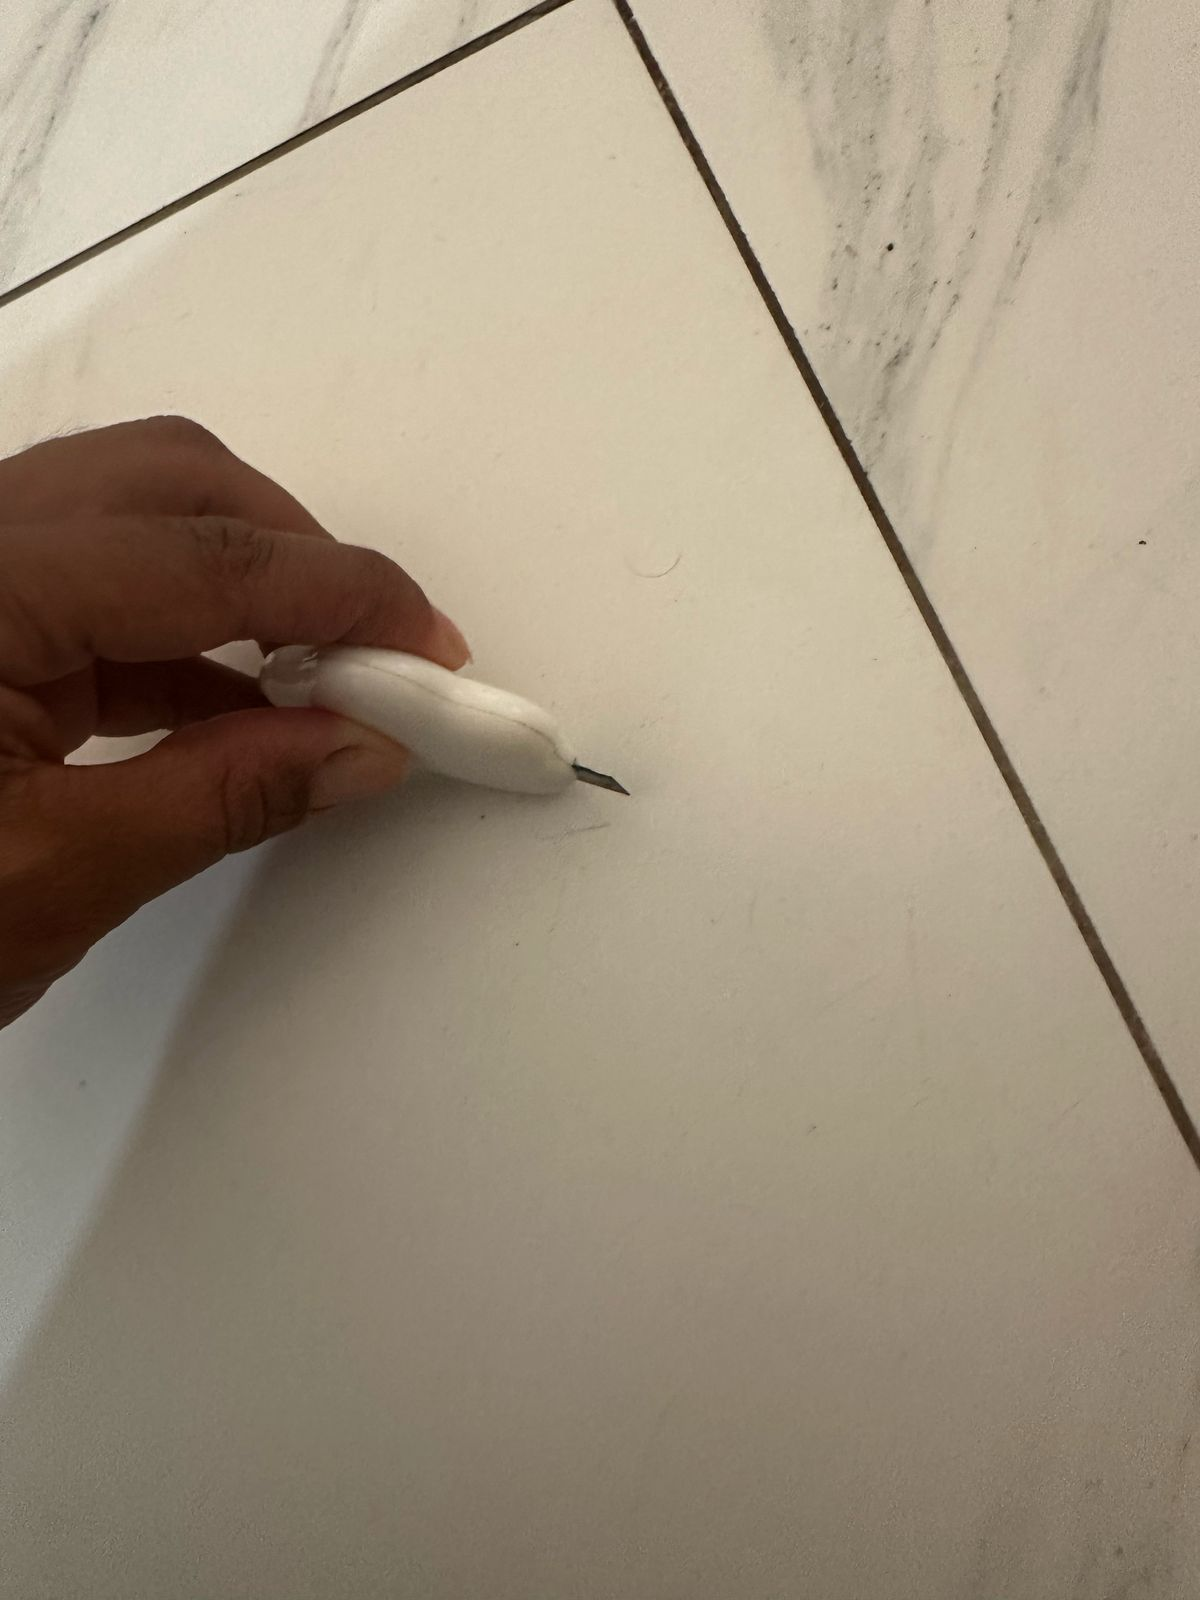estilete: (521, 691, 636, 808)
